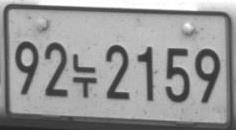1: (134, 46, 162, 101)
2: (105, 44, 130, 99), (44, 41, 68, 97)
5: (164, 47, 190, 102)
9: (193, 47, 221, 103), (14, 40, 39, 95)
누: (72, 53, 97, 98)
